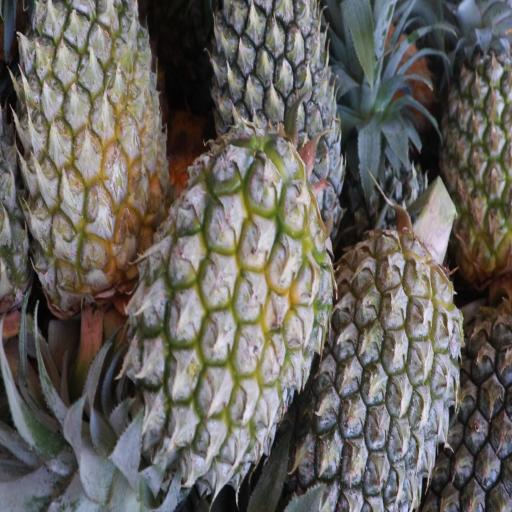------------------------------: (130, 148, 314, 484), (19, 0, 161, 316), (440, 40, 512, 276)
